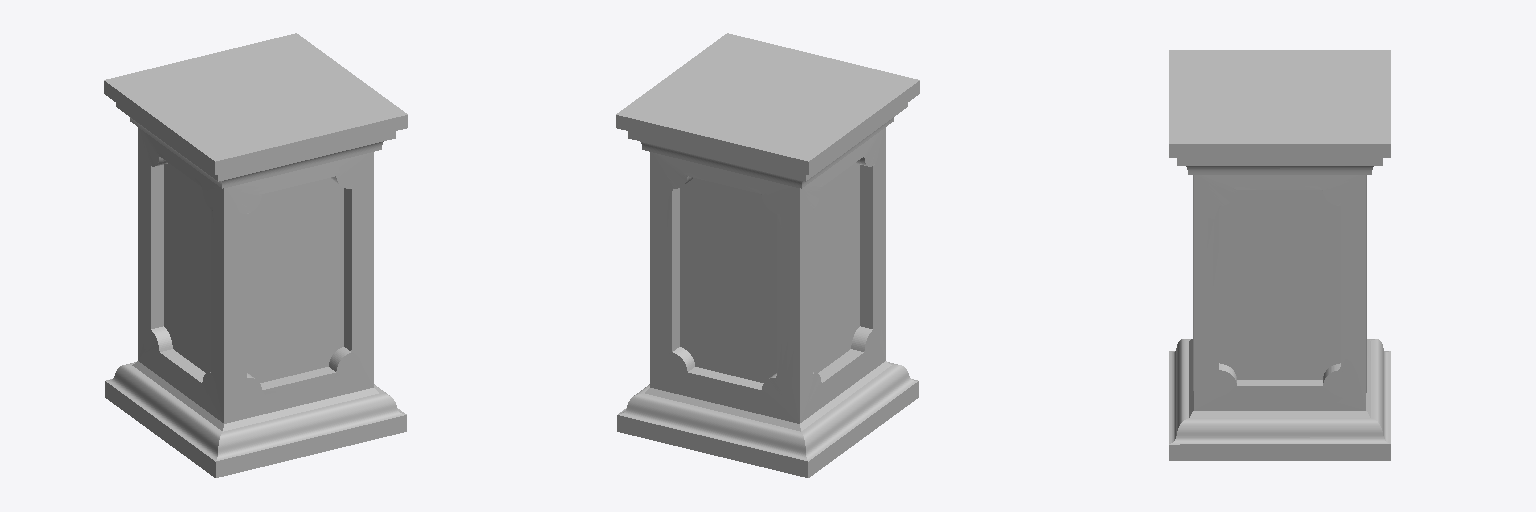
File: Pedestal.obj
The picture shows the model from 3 angles: view 1: azimuth 30°, elevation 25°; view 2: azimuth 150°, elevation 25°; view 3: azimuth 270°, elevation 25°; orthographic projection.
Parts seen in each view (by area): view 1: 10421_square_pedastal_v1 Mesh; view 2: 10421_square_pedastal_v1 Mesh; view 3: 10421_square_pedastal_v1 Mesh.
Boxes of the visible parts, box(x1,y1,x2,y2) form: 10421_square_pedastal_v1 Mesh: box(104, 33, 407, 477); 10421_square_pedastal_v1 Mesh: box(616, 33, 919, 477); 10421_square_pedastal_v1 Mesh: box(1169, 50, 1390, 460).
Bounding box in the file's own units: 53.26 × 83.63 × 53.25.